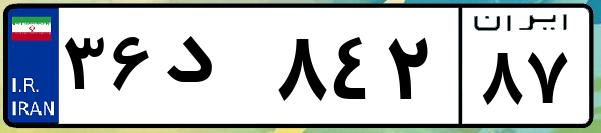2: (385, 28, 445, 110)
3: (57, 26, 110, 100)
4: (330, 28, 385, 110)
6: (110, 28, 158, 98)
7: (525, 38, 570, 115)
8: (270, 28, 330, 110), (475, 38, 525, 113)
د: (158, 20, 270, 120)
